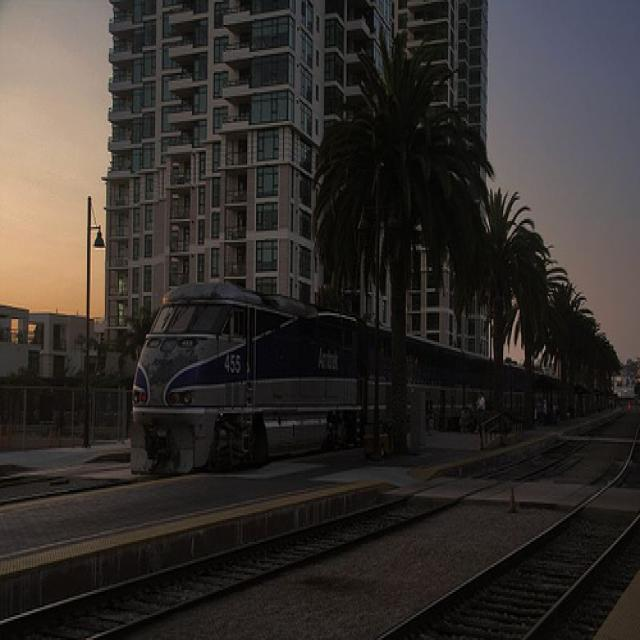locomotive: (126, 274, 368, 478)
